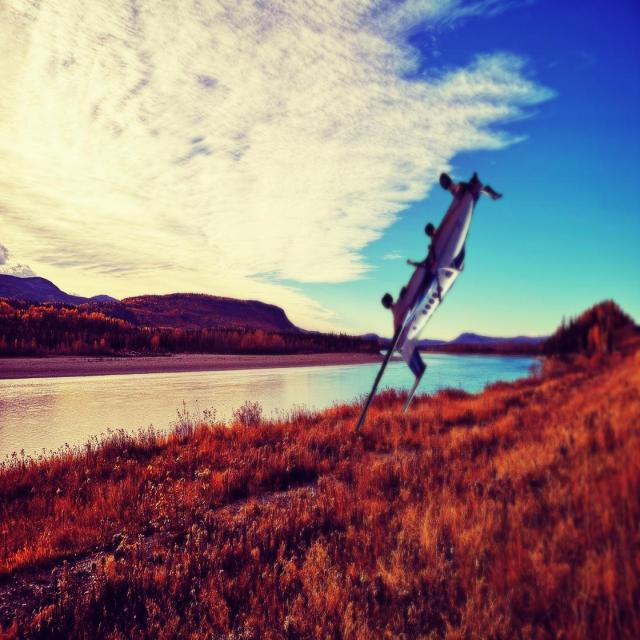airplane: (355, 170, 502, 432)
